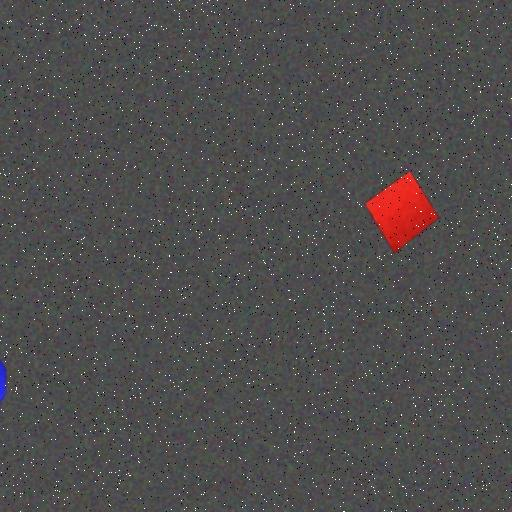RED_SQUARE: (364, 170, 440, 254)
